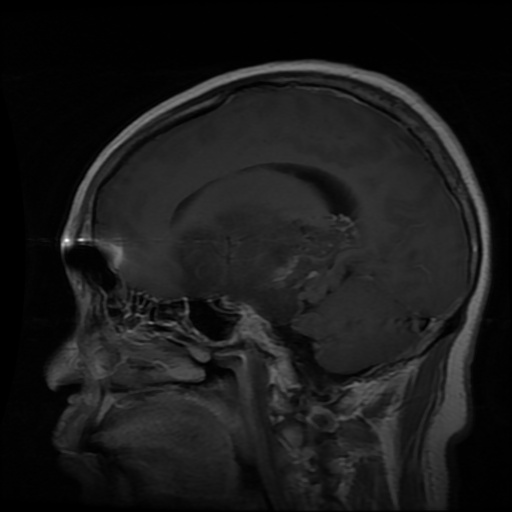glioma: (172, 206, 362, 322)
